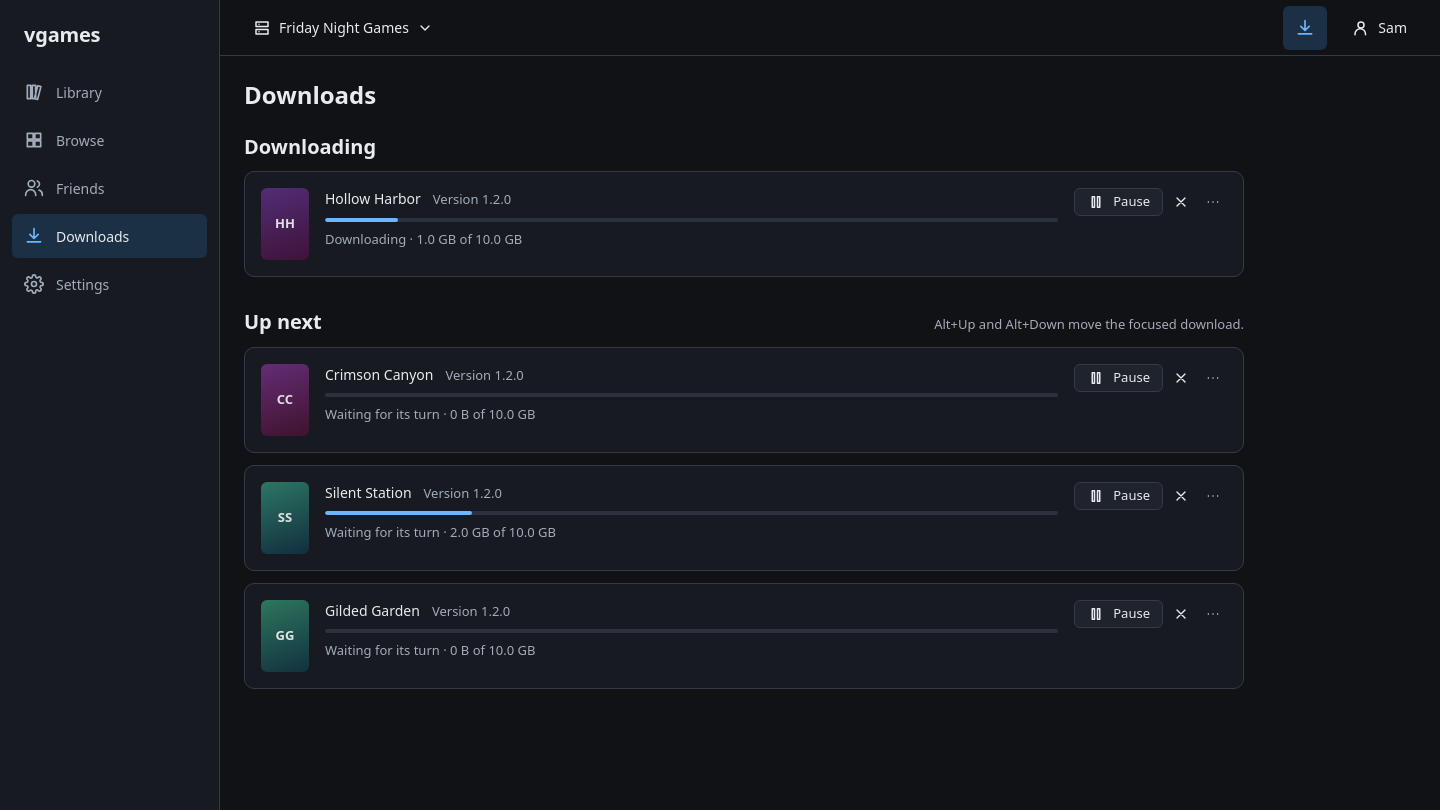
Test: downloads › cancel › Keep downloading closes the dialog and changes nothing
Step 1. Click the button named "Cancel Hollow Harbor" → [1181, 202], box left=1167, top=188, right=1195, bottom=216
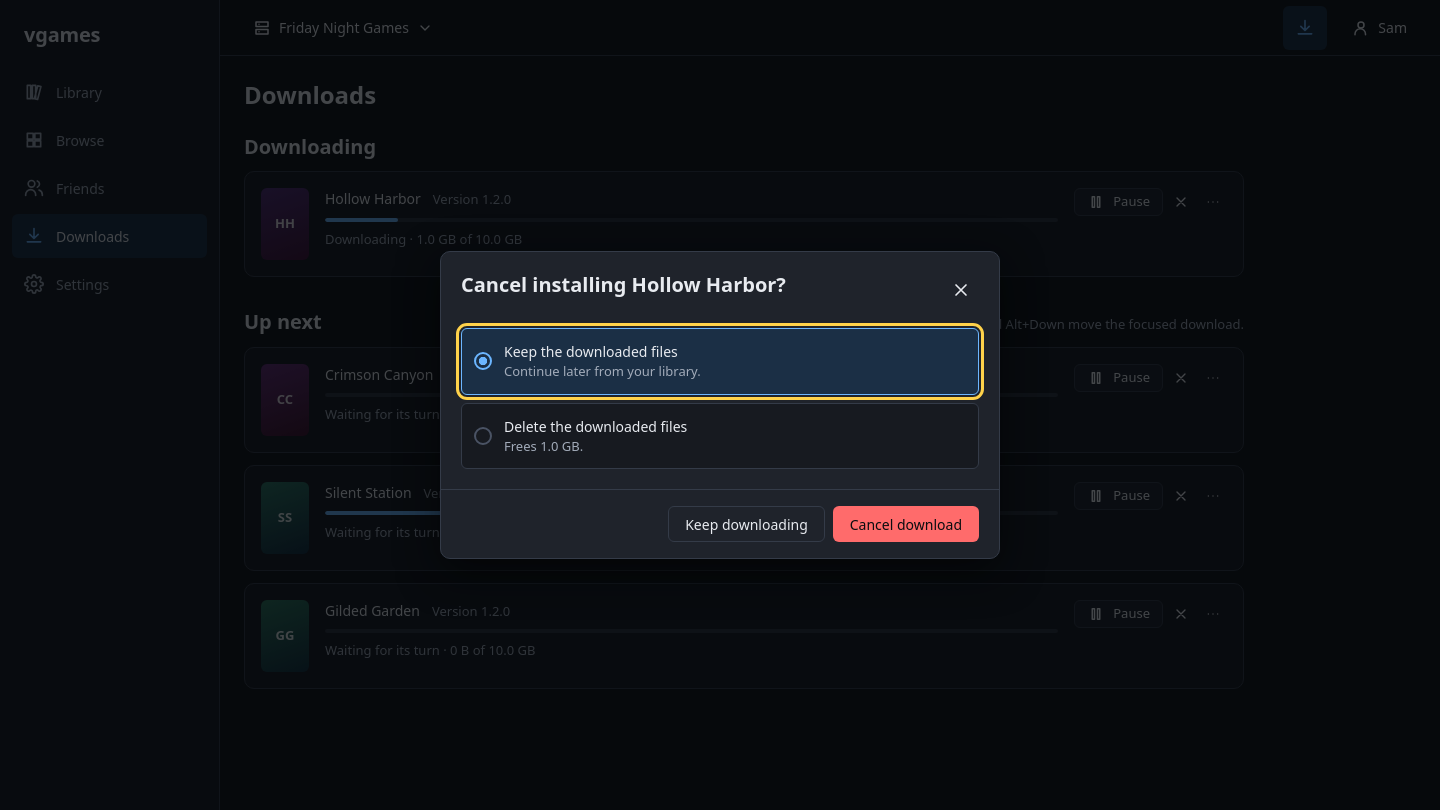
Step 2. Click the button "Keep downloading" → [746, 524], box left=668, top=506, right=825, bottom=542
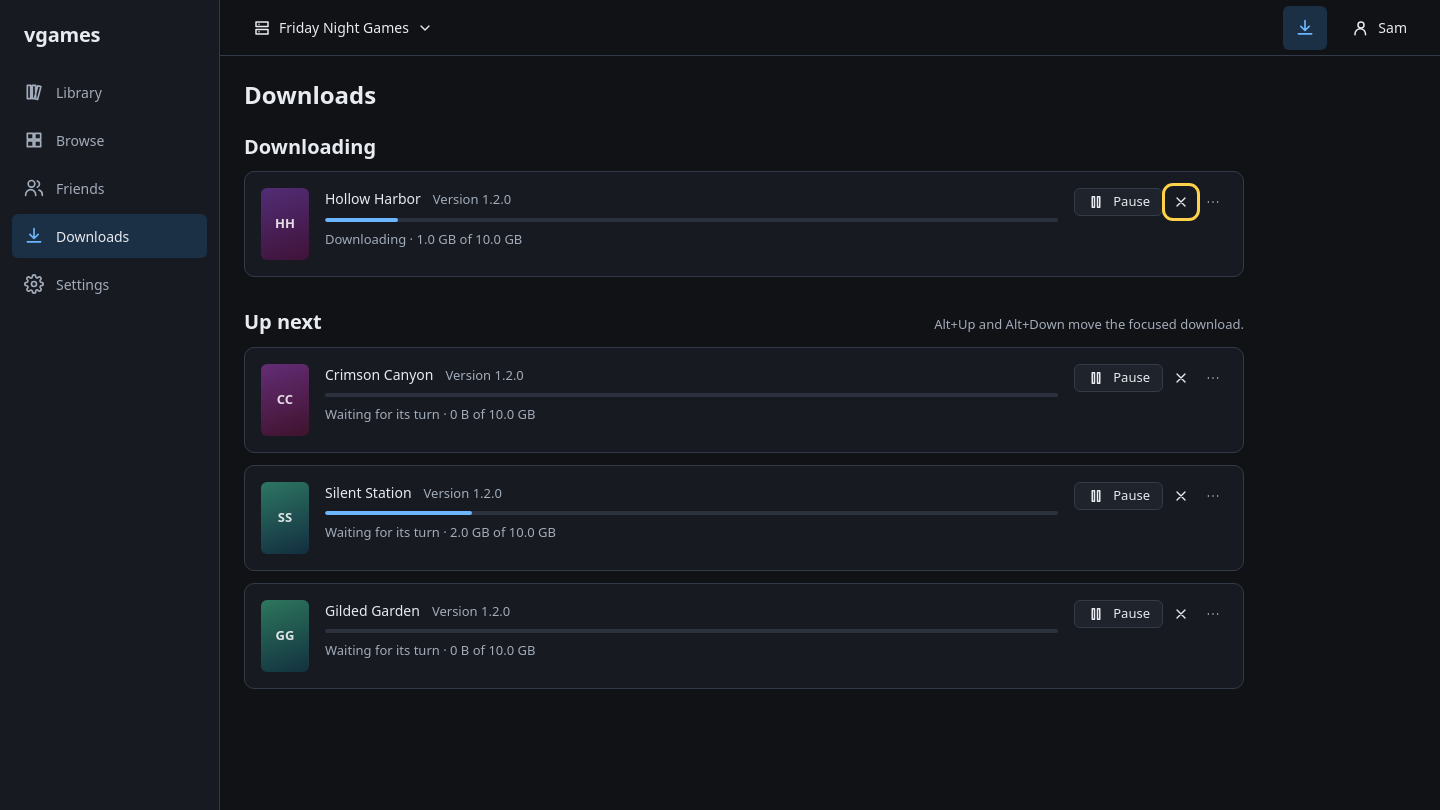
Result: the dialog is gone
